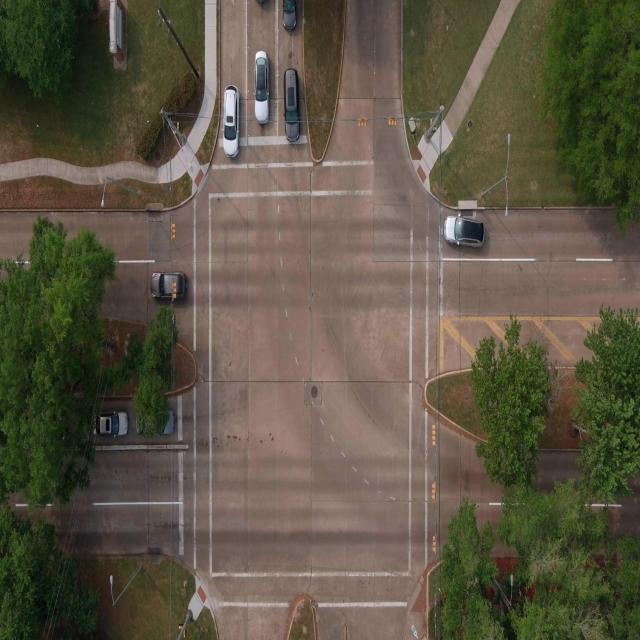Car: (439, 214, 489, 249), (222, 85, 240, 157), (108, 0, 127, 65), (254, 50, 270, 124), (284, 69, 300, 142), (150, 272, 187, 301), (138, 409, 175, 437), (93, 412, 129, 436), (283, 0, 297, 32), (256, 0, 270, 6)
